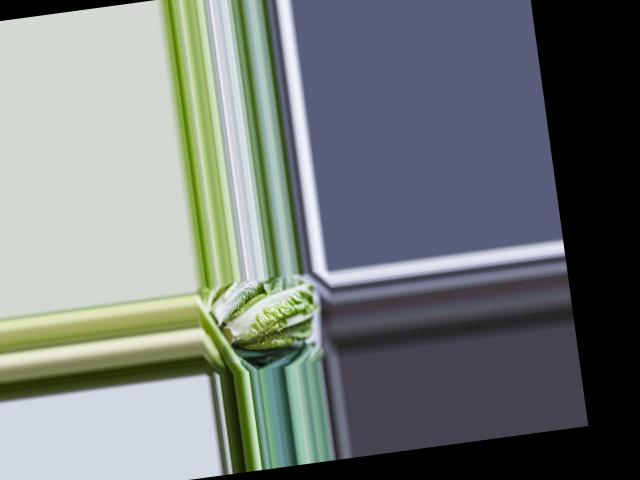lettuce: (217, 281, 323, 356)
